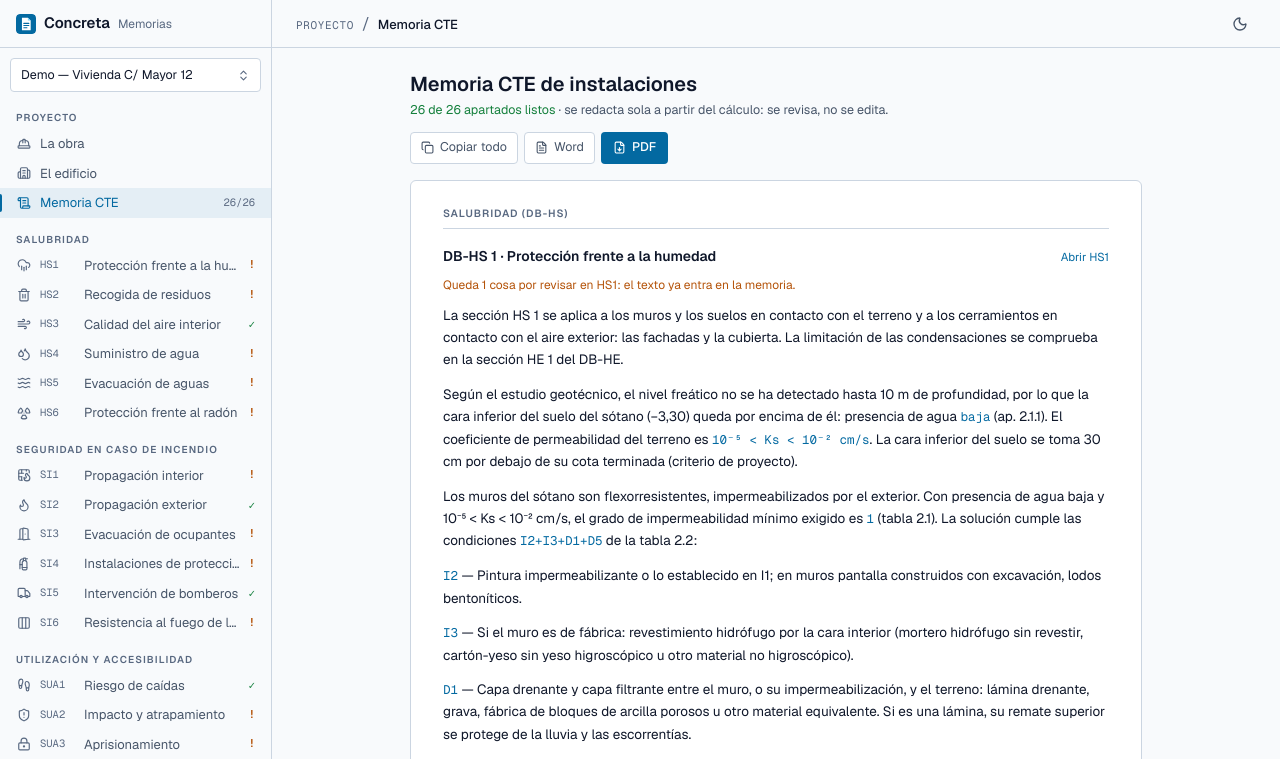
Test: «/p/demo/memoria» › los apartados del Demo y el «no aplica»; «Copiar todo» copia el texto
Expected: the heading "Memoria CTE de instalaciones" is shown, 410,71 -> 697,97
Expected: the text "26 de 26 apartados listos" is shown, 410,101 -> 555,118
# user-event pone su propio portapapeles: se espía después de crearlo.
Click the button "Copiar todo".
click(464, 148)  # box 410,132 -> 518,164
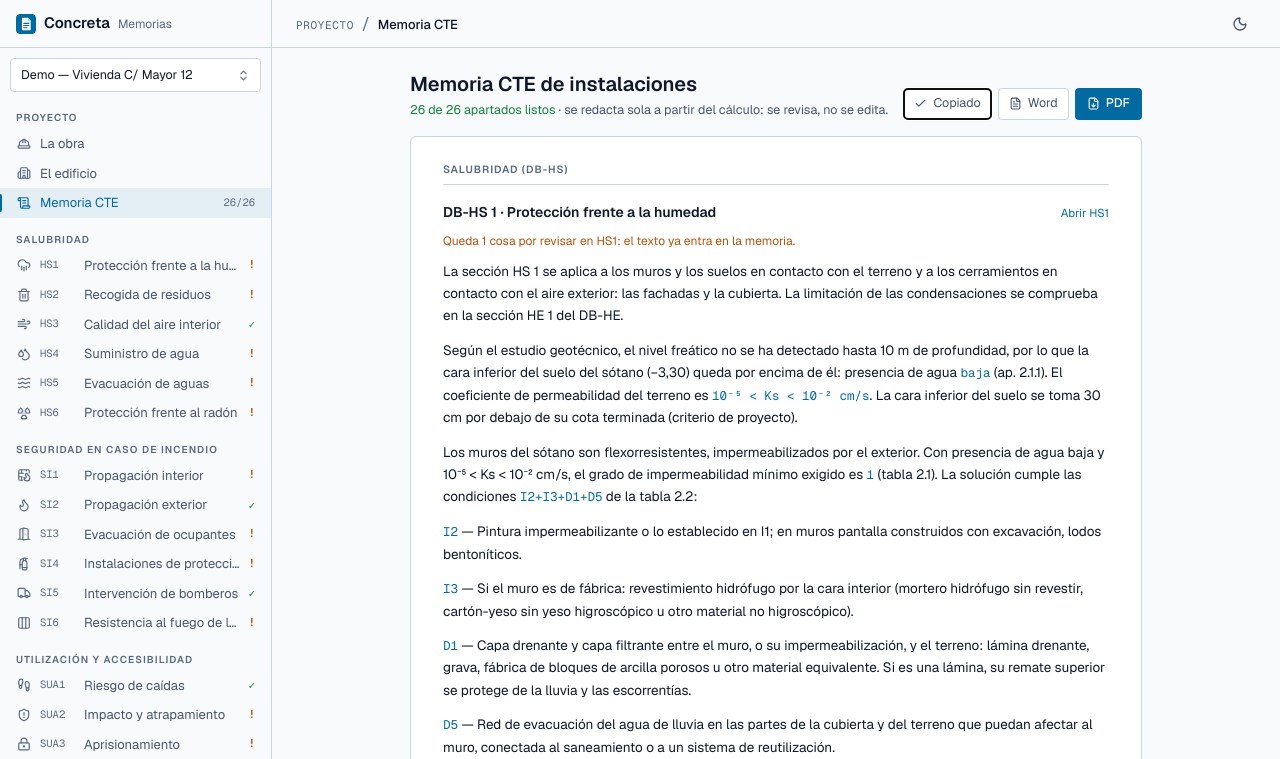
Expected: the button "Copiado" is shown, 903,88 -> 992,120
